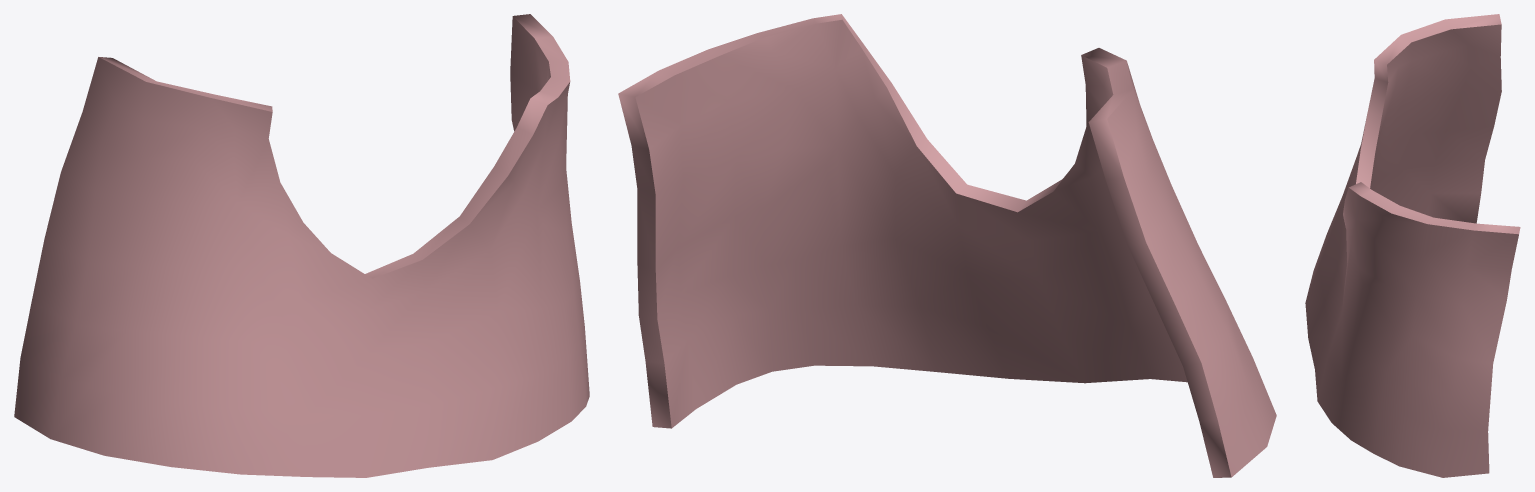
3 renders of one model, left to right at view 1: azimuth 30°, elevation 25°; view 2: azimuth 150°, elevation 25°; view 3: azimuth 270°, elevation 25°, orthographic. The views are drawn at different scales.
Parts seen in each view (by area): view 1: ZA_4b0d7b01b0df8272; view 2: ZA_4b0d7b01b0df8272; view 3: ZA_4b0d7b01b0df8272.
Boxes of the visible parts, x1,y1,x2,y2 form: ZA_4b0d7b01b0df8272: (14,14,589,477); ZA_4b0d7b01b0df8272: (618,14,1276,477); ZA_4b0d7b01b0df8272: (1305,14,1520,477).
Size of the model in its own units: 0.0955 by 0.0672 by 0.0433.
